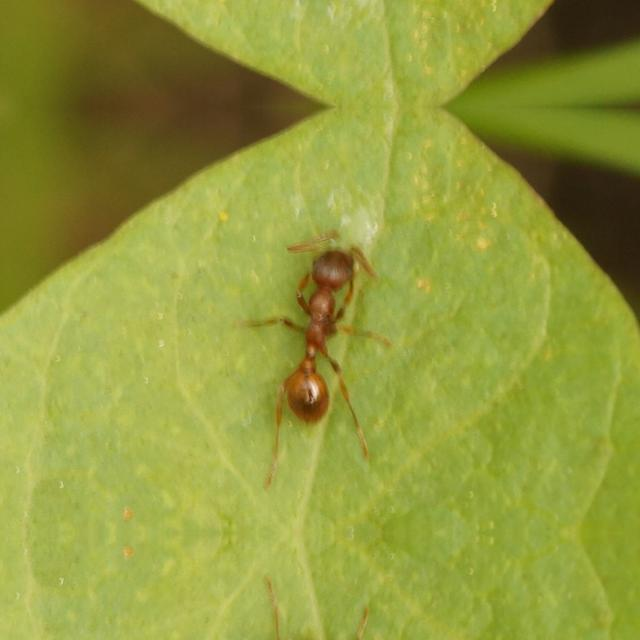Myrmica: (253, 202, 373, 463)
